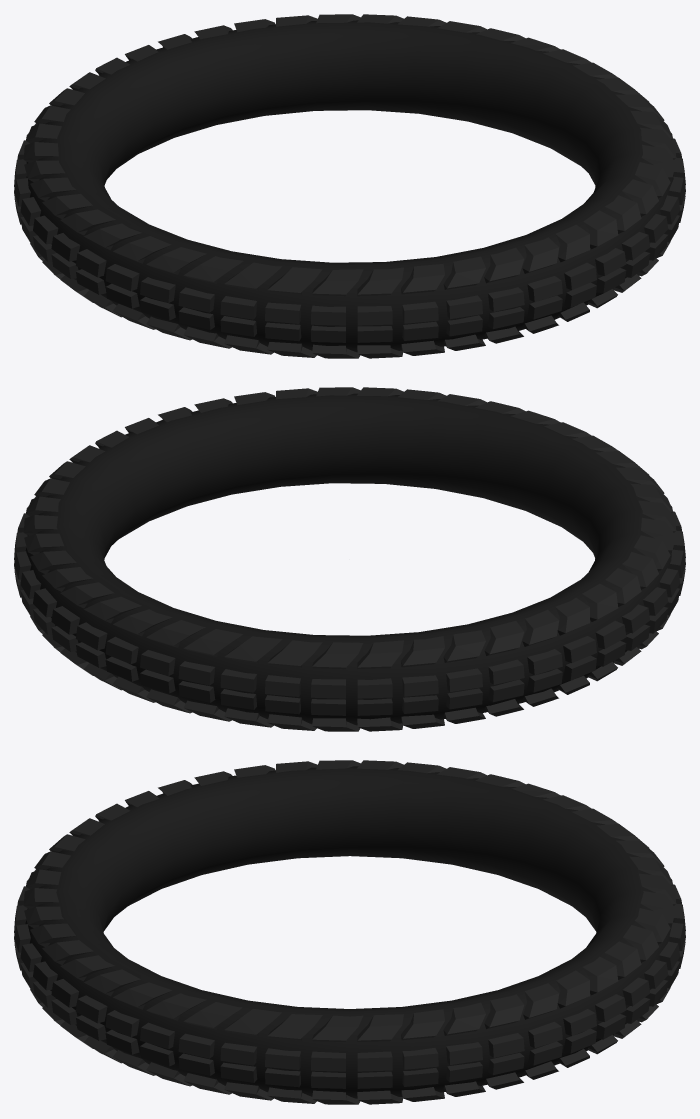
File: LunTai_ZiXingChe_1X7_on.FBX
3 views of the same model, one above another, from view 1: azimuth 30°, elevation 25°; view 2: azimuth 150°, elevation 25°; view 3: azimuth 270°, elevation 25° (orthographic).
Visible parts, largest first — view 1: LunTai; view 2: LunTai; view 3: LunTai.
Part boxes in pixels (bbox=[...]): LunTai: bbox=[14, 14, 685, 358]; LunTai: bbox=[14, 387, 685, 731]; LunTai: bbox=[14, 760, 685, 1104].
Bounding box in the file's own units: 7.22 × 0.9946 × 7.23.
